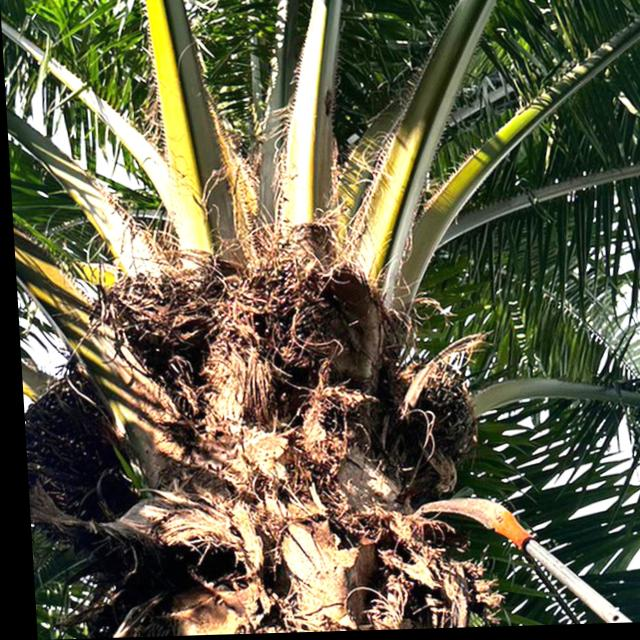ripe: (406, 369, 474, 463)
